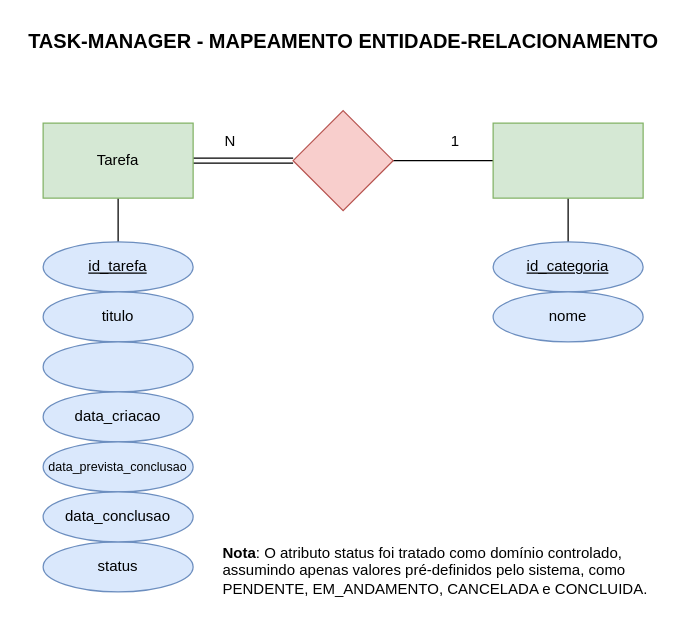
Some shapes in this 686 by 620 pixel diagram are drawn without their labels. The shapes that lost their labels are listed below. From the top down, each one's centre as x and y in pixels, then its label:
the point at 342,160: pertence a
the point at 567,160: Categoria
the point at 117,366: descricao
